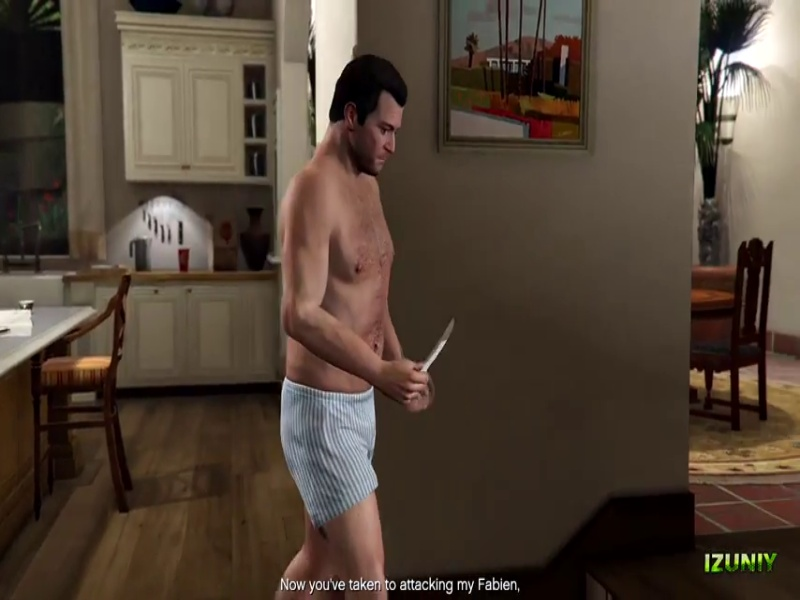human: (275, 57, 434, 577)
